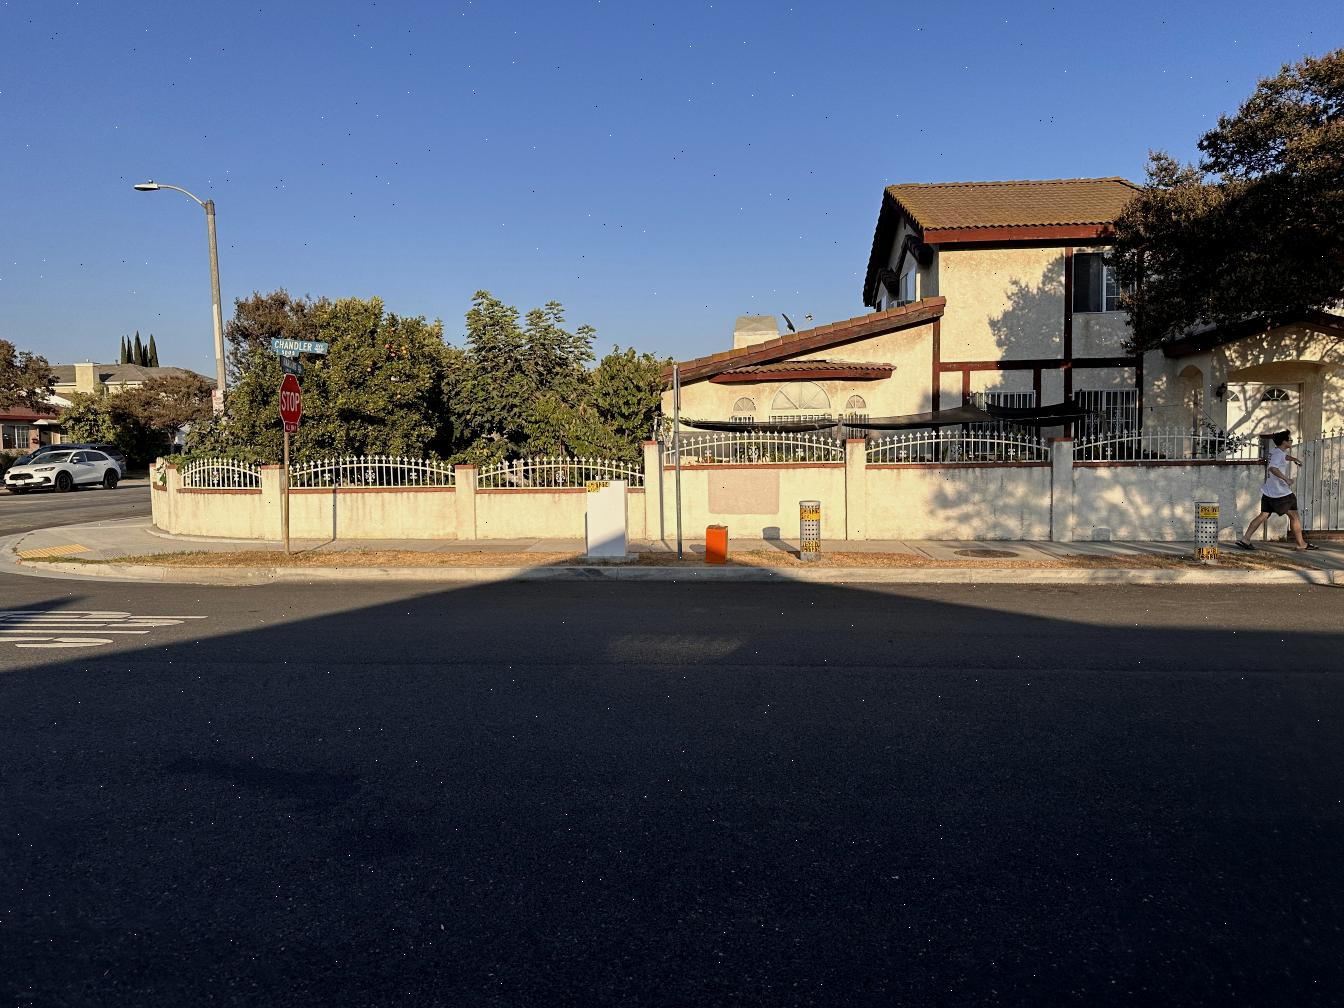curbs-laRr: (166, 563, 1340, 584)
orange box: (704, 524, 731, 563)
